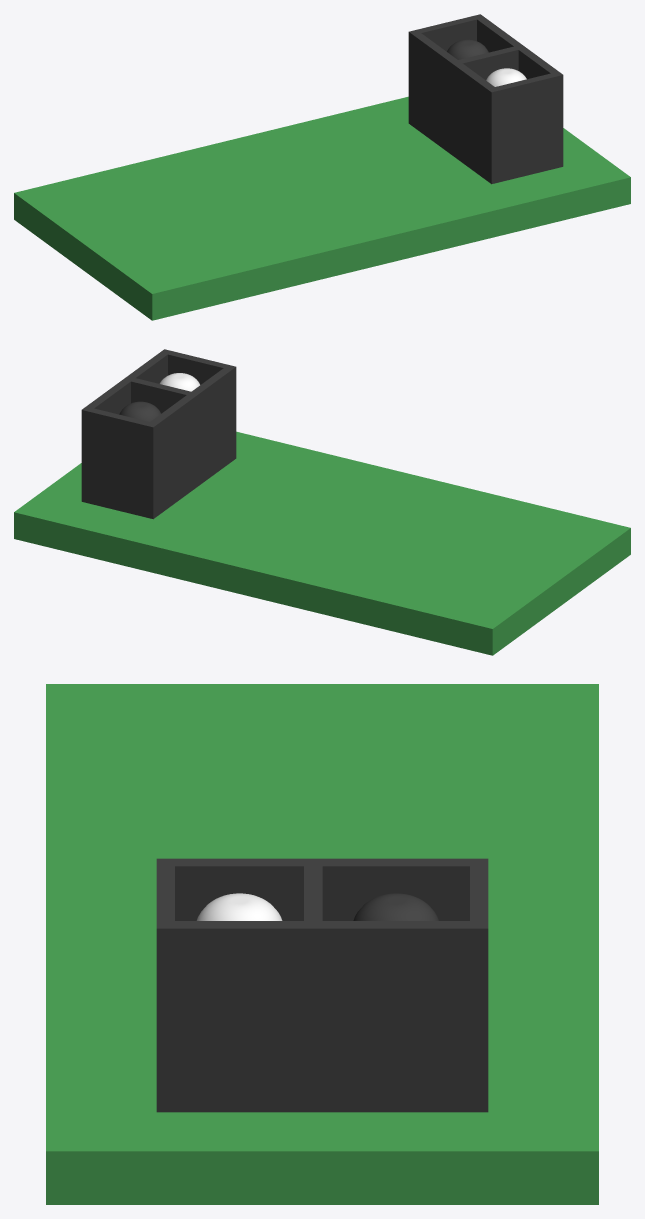
File: ir_cliff_sensor.gltf
3 views of the same model, one above another, from view 1: azimuth 30°, elevation 25°; view 2: azimuth 150°, elevation 25°; view 3: azimuth 270°, elevation 25° (orthographic). The views are drawn at different scales.
Visible parts, largest first — view 1: NAUO2, NAUO1; view 2: NAUO2, NAUO1; view 3: NAUO2, NAUO1.
Part boxes in pixels (x1,y1,x2,y2): NAUO2: (14,96,630,320); NAUO1: (408,14,563,184); NAUO2: (14,431,630,655); NAUO1: (81,349,236,519); NAUO2: (46,684,598,1204); NAUO1: (156,858,488,1112).
Bounding box in the file's own units: 0.03 × 0.0071 × 0.015.
